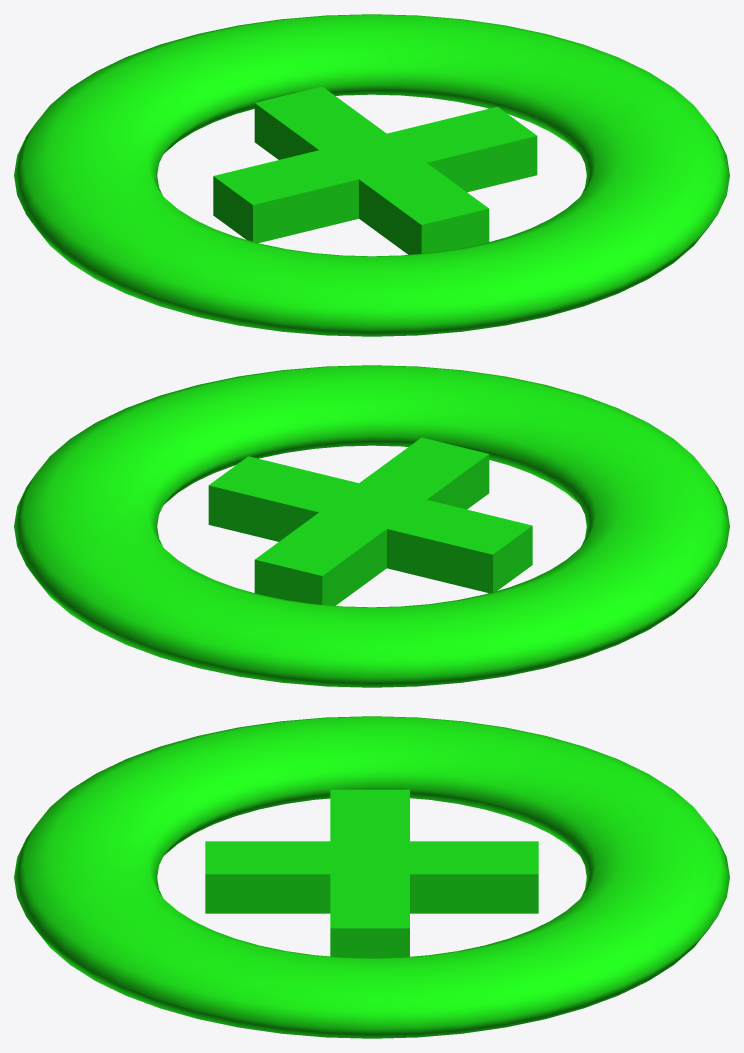
Rendered from hook.glb.
3 views of the same model, one above another, from view 1: azimuth 30°, elevation 25°; view 2: azimuth 150°, elevation 25°; view 3: azimuth 270°, elevation 25° (orthographic).
Parts seen in each view (by area): view 1: Cube; view 2: Cube; view 3: Cube.
Boxes of the visible parts, x1,y1,x2,y2 form: Cube: (14, 14, 729, 336); Cube: (14, 365, 729, 687); Cube: (14, 716, 729, 1038).
Bounding box in the file's own units: 0.0776 × 0.00671 × 0.0776.
